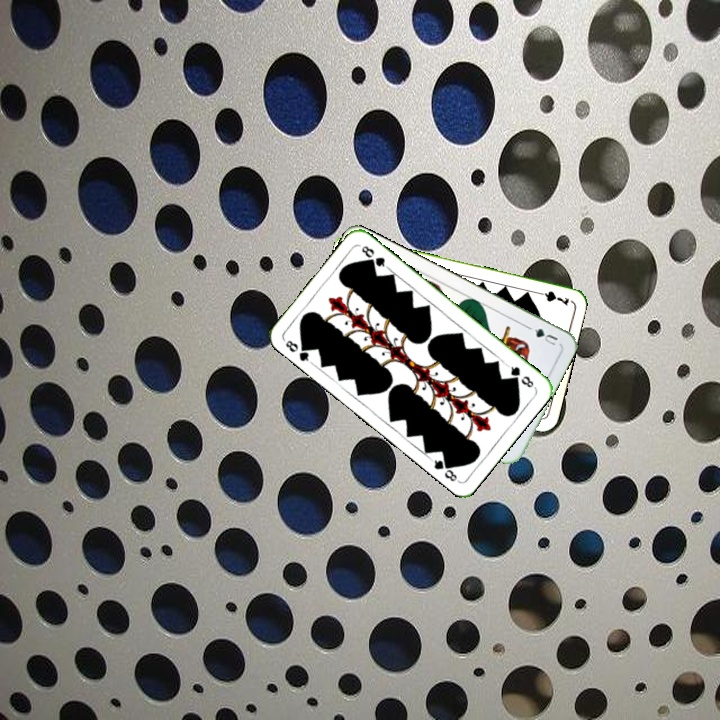G7: (531, 287, 572, 308)
G8: (280, 336, 314, 366), (503, 361, 536, 391)
GU: (524, 322, 560, 348)
